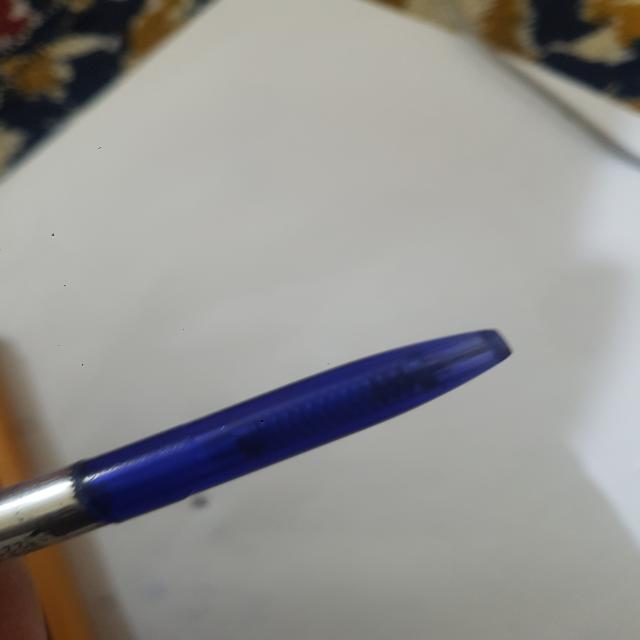general: (1, 326, 513, 563)
